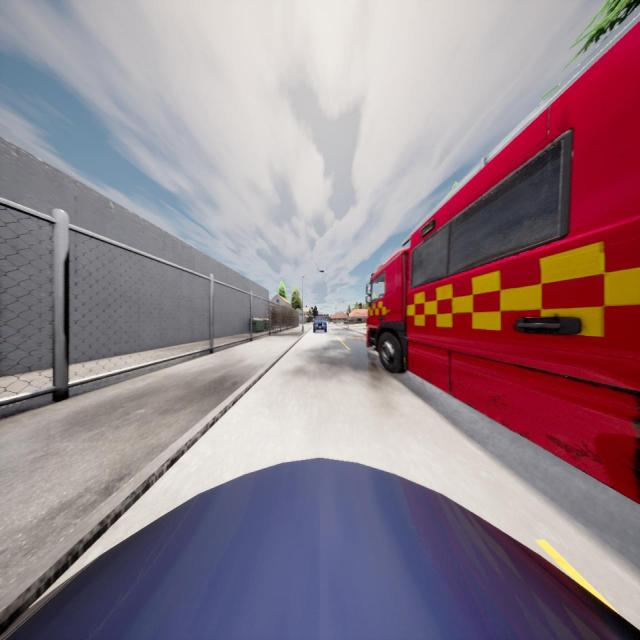Vehicle: (363, 19, 639, 496), (0, 460, 640, 640), (312, 315, 327, 333)
